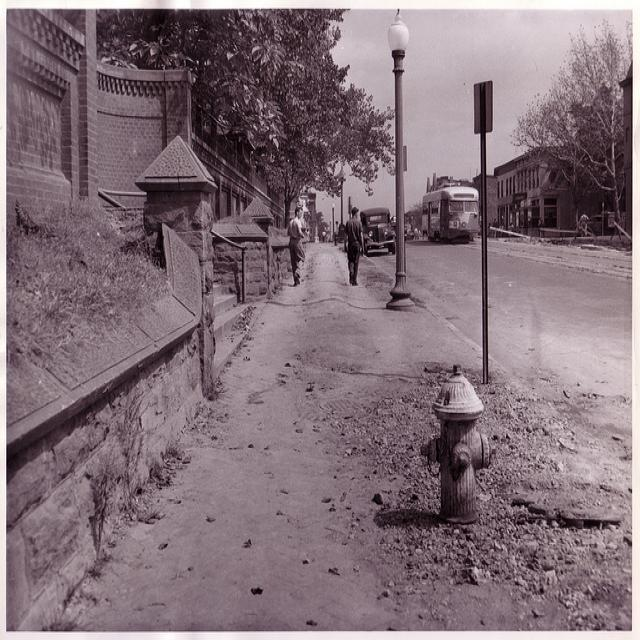fire_hydrant: (418, 362, 503, 524)
